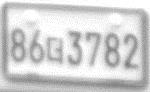2: (122, 32, 141, 70)
3: (66, 29, 84, 67)
6: (28, 29, 45, 64)
7: (84, 30, 102, 66)
8: (103, 32, 121, 68), (10, 27, 27, 62)
더: (46, 36, 64, 65)
